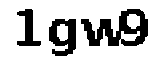1: (16, 8, 45, 50)
9: (119, 6, 150, 48)
g: (48, 16, 79, 59)
w: (81, 15, 123, 49)
